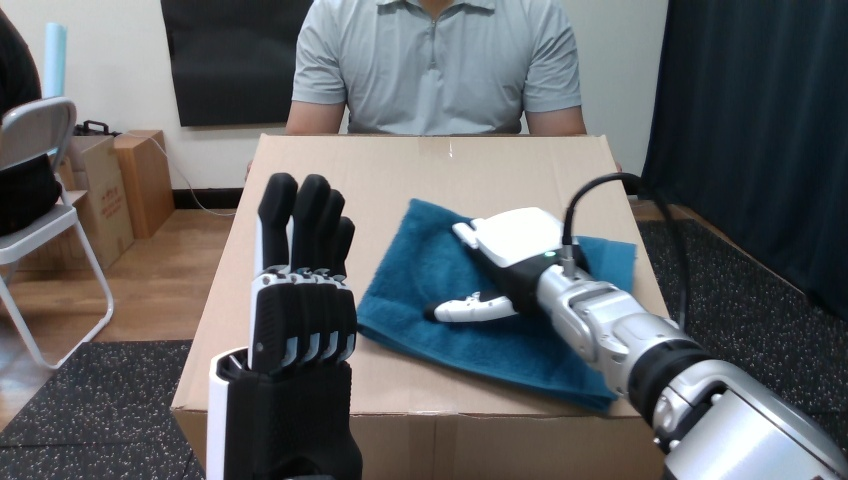left robot hand: (206, 173, 361, 478), (671, 206, 847, 456)
